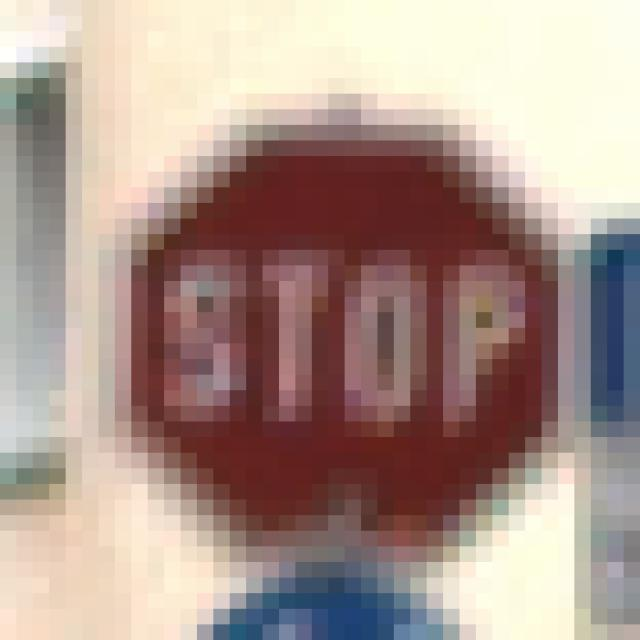STOP: (99, 95, 559, 563)
